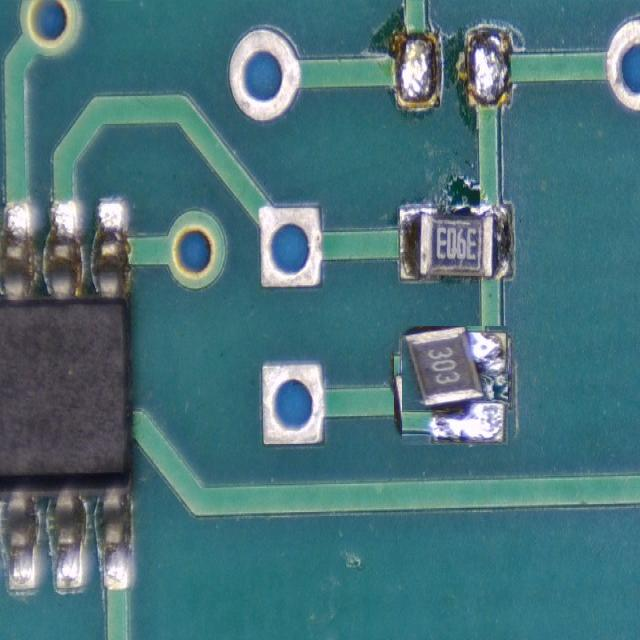Incorrect_installation: (401, 326, 508, 445)
